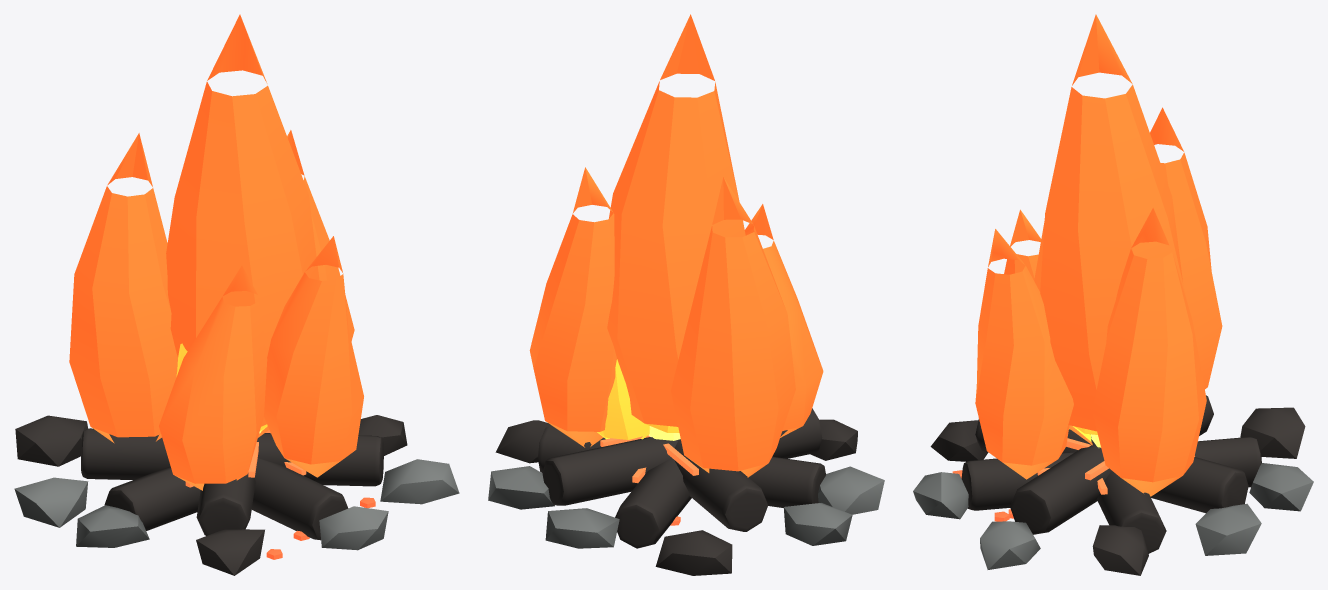
Rendered from item_fire.glb.
3 views of the same model, side by side, from view 1: azimuth 30°, elevation 25°; view 2: azimuth 150°, elevation 25°; view 3: azimuth 270°, elevation 25° (orthographic). The views are drawn at different scales.
Visible parts, largest first — view 1: flame, item_fire; view 2: flame, item_fire; view 3: flame, item_fire.
Boxes of the visible parts, x1=… form: flame: x1=69, y1=14, x2=375, y2=559; item_fire: x1=14, y1=415, x2=459, y2=575; flame: x1=529, y1=14, x2=823, y2=525; item_fire: x1=488, y1=408, x2=884, y2=575; flame: x1=952, y1=14, x2=1222, y2=521; item_fire: x1=913, y1=395, x2=1313, y2=575.
Size of the model in its own units: 0.7874 by 1 by 0.751.
